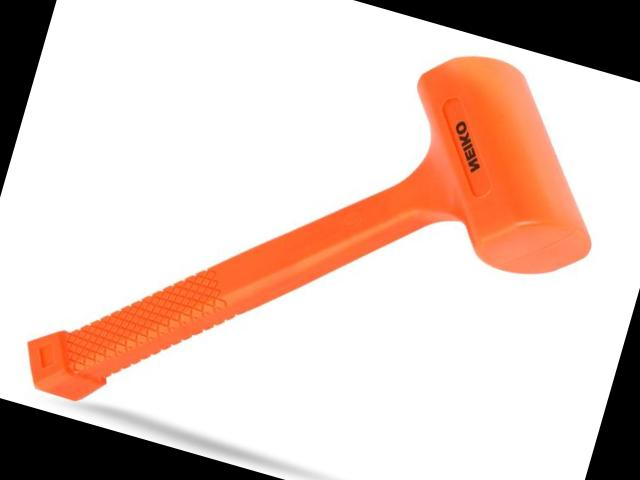hammer: (14, 0, 634, 480)
